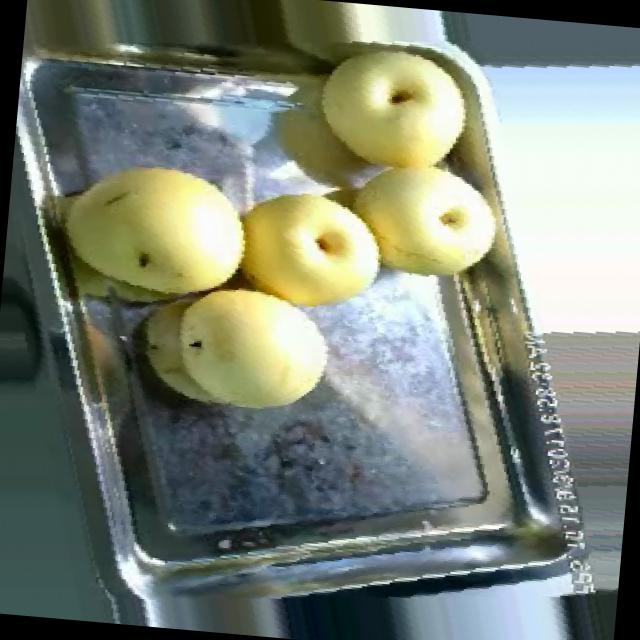Fruit: (31, 132, 270, 340), (119, 254, 349, 446), (292, 22, 490, 193), (211, 159, 400, 336), (320, 136, 517, 304)
